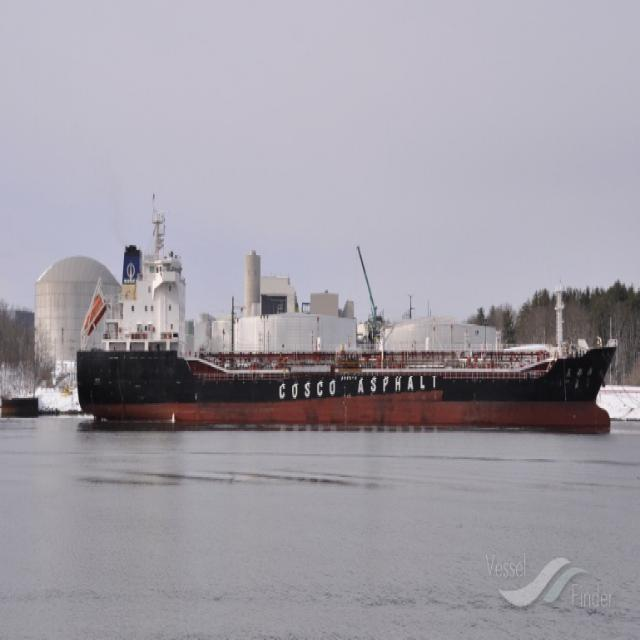OCR: (274, 376, 444, 412)
